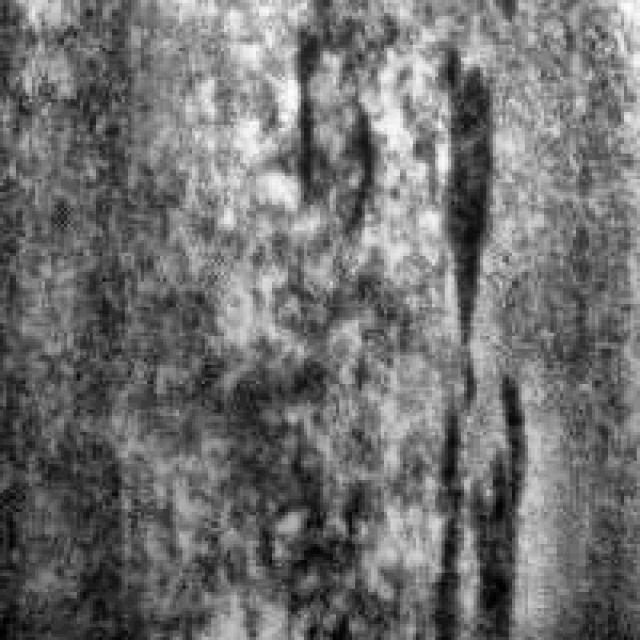Patches: (396, 29, 489, 388), (419, 358, 531, 630), (272, 22, 374, 246)
